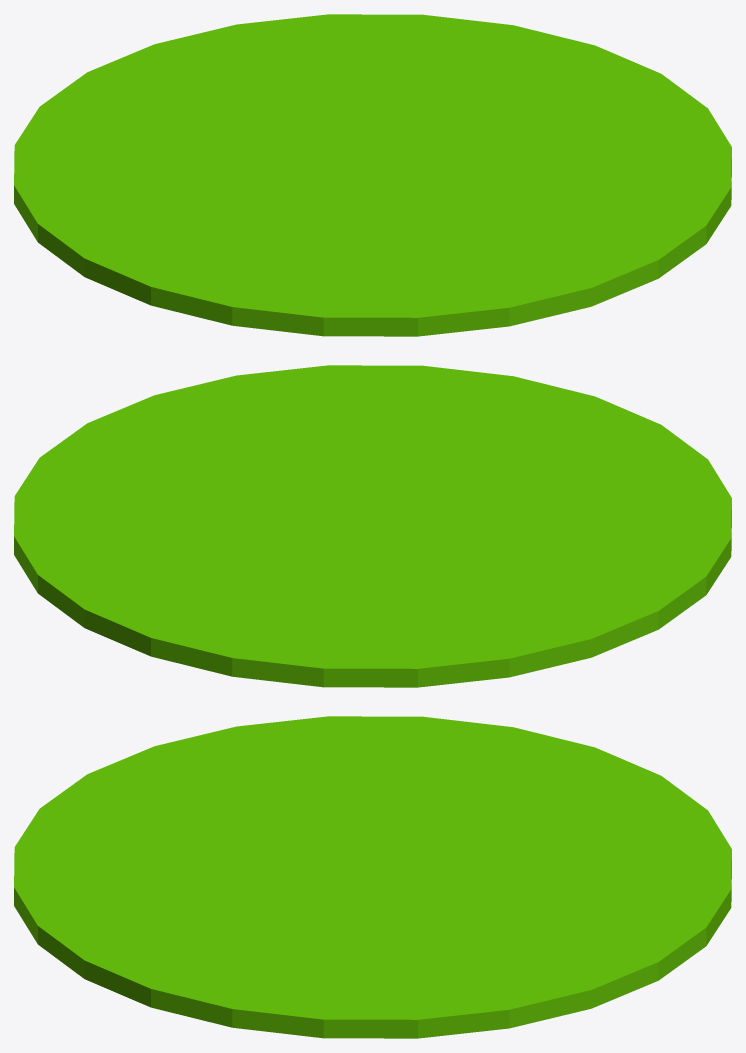
File: cylinder_green_s.dae
The picture shows the model from 3 angles, top to bottom: view 1: azimuth 30°, elevation 25°; view 2: azimuth 150°, elevation 25°; view 3: azimuth 270°, elevation 25°; orthographic projection.
Parts seen in each view (by area): view 1: skpB7CC; view 2: skpB7CC; view 3: skpB7CC.
Boxes of the visible parts, x1,y1,x2,y2 form: skpB7CC: (14, 14, 731, 336); skpB7CC: (14, 365, 731, 687); skpB7CC: (14, 716, 731, 1038).
Bounding box in the file's own units: 23.13 × 23.13 × 0.666.
